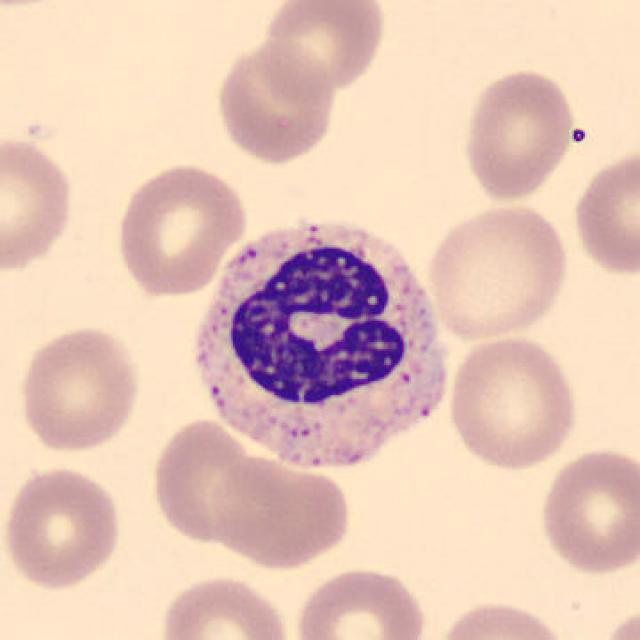Neutrophil: (181, 206, 459, 483)
RBC: (421, 199, 571, 342), (112, 158, 251, 300), (444, 333, 582, 473), (206, 453, 354, 571), (147, 414, 276, 548), (14, 323, 144, 455), (457, 65, 579, 205), (0, 462, 126, 592), (212, 39, 340, 166), (535, 442, 638, 578), (258, 0, 389, 97), (0, 132, 78, 275), (290, 562, 432, 640), (156, 571, 294, 640), (569, 146, 638, 278), (436, 596, 572, 640), (599, 603, 638, 640)
